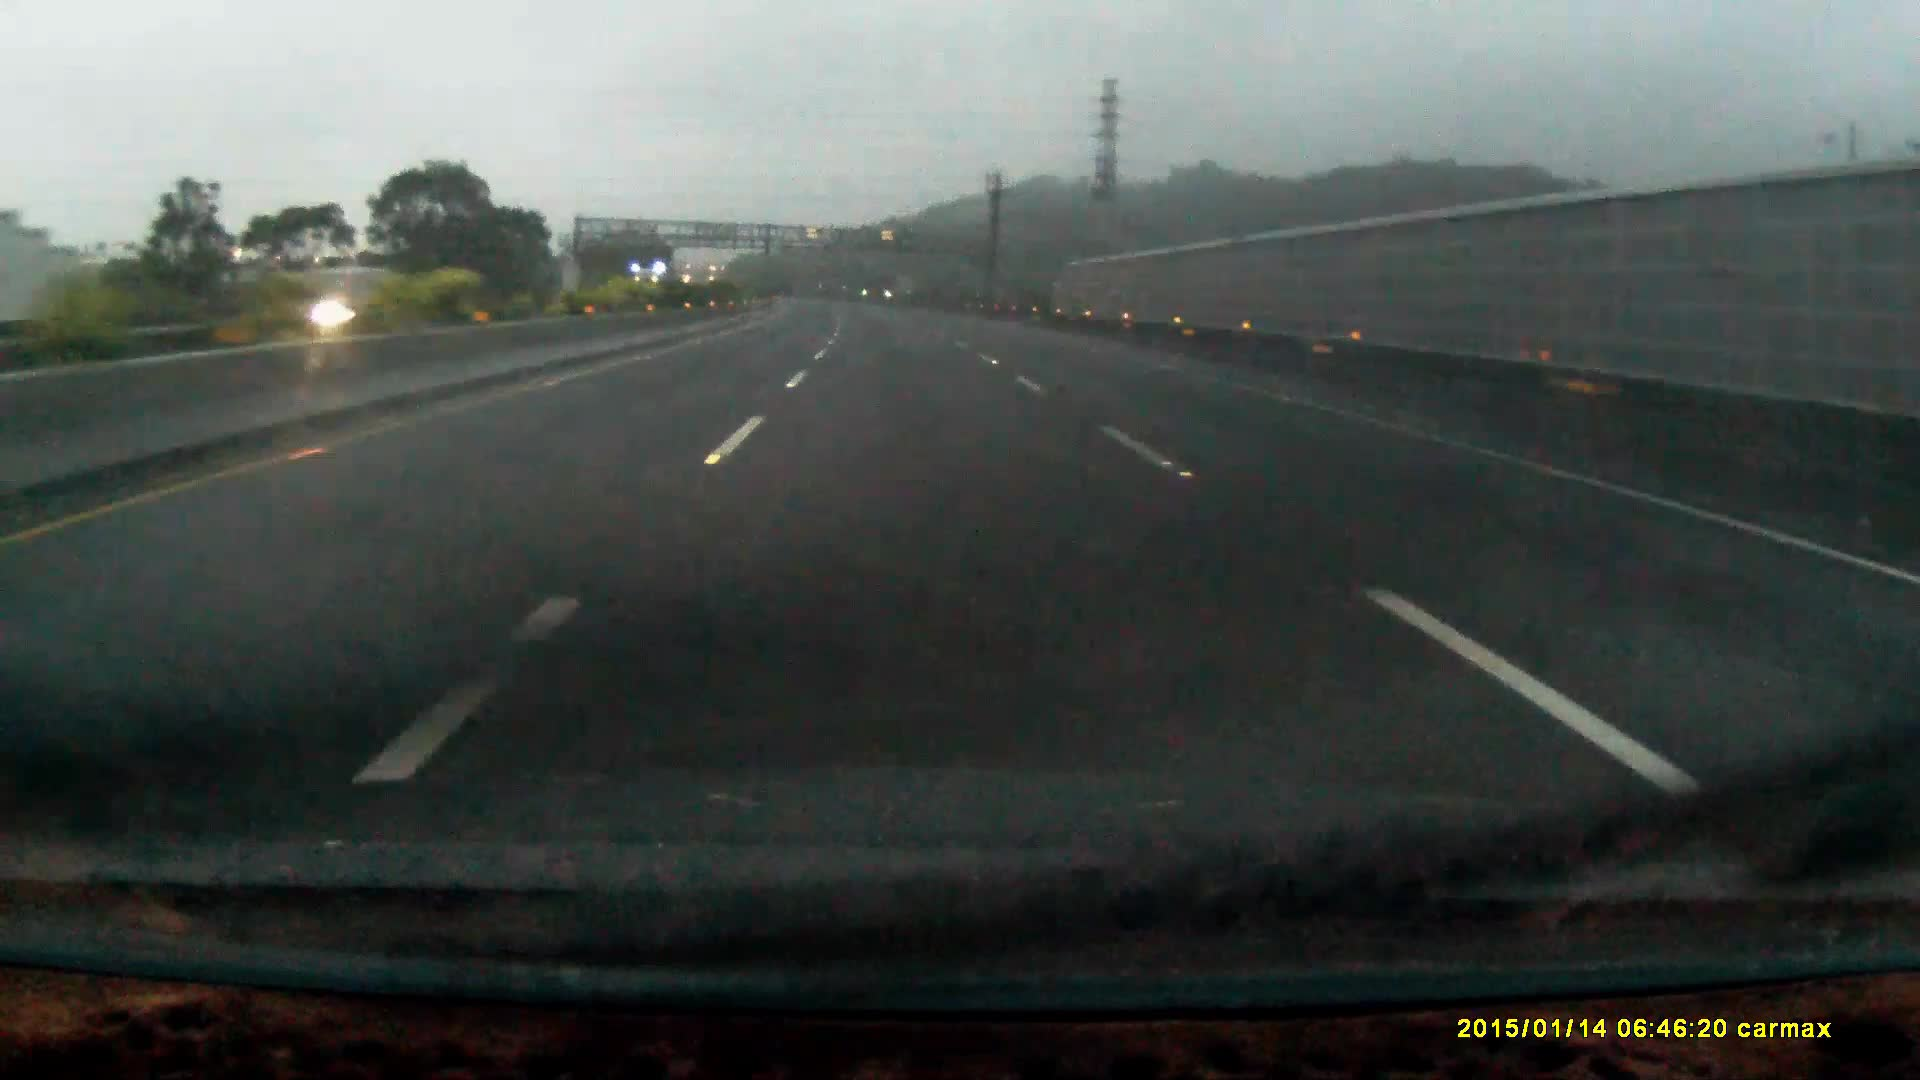vehicle: (634, 262, 680, 309)
